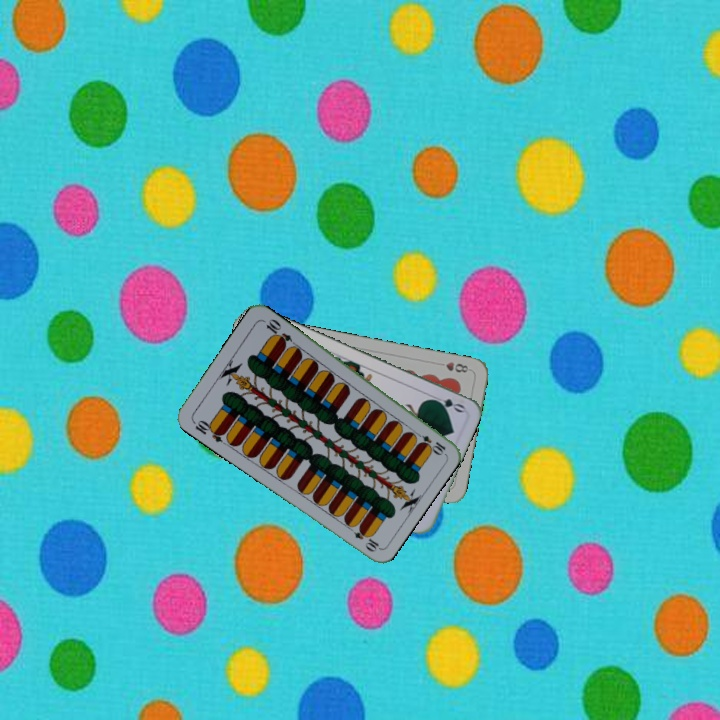E10: (189, 416, 228, 445), (410, 428, 448, 457)
GO: (426, 391, 467, 415)
H8: (433, 358, 471, 375)
